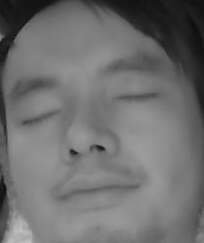blink: (112, 88, 155, 109), (20, 107, 61, 127)
mouth: (55, 165, 139, 212)
